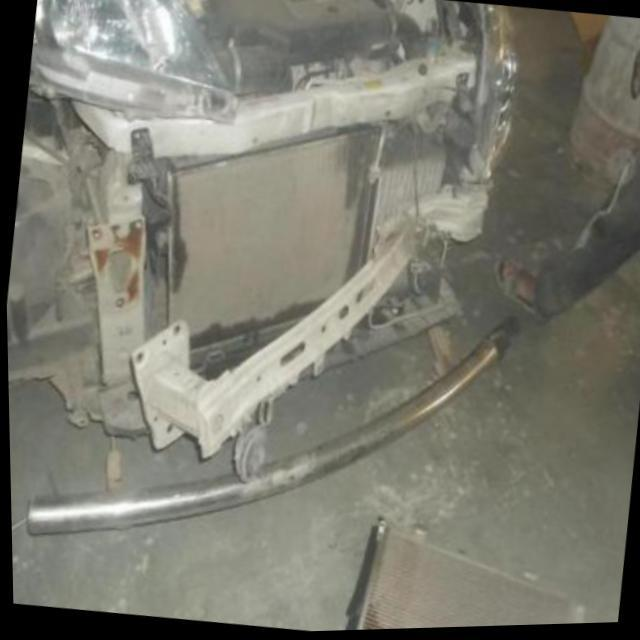no part: (5, 48, 497, 421)
